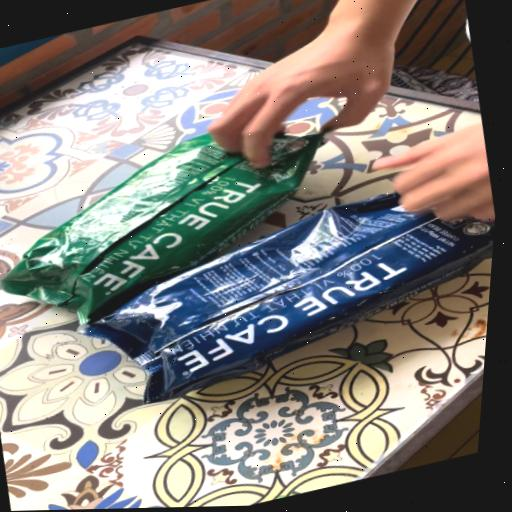cafe_hat: (83, 194, 495, 402)
cafe_xay: (1, 132, 324, 322)
